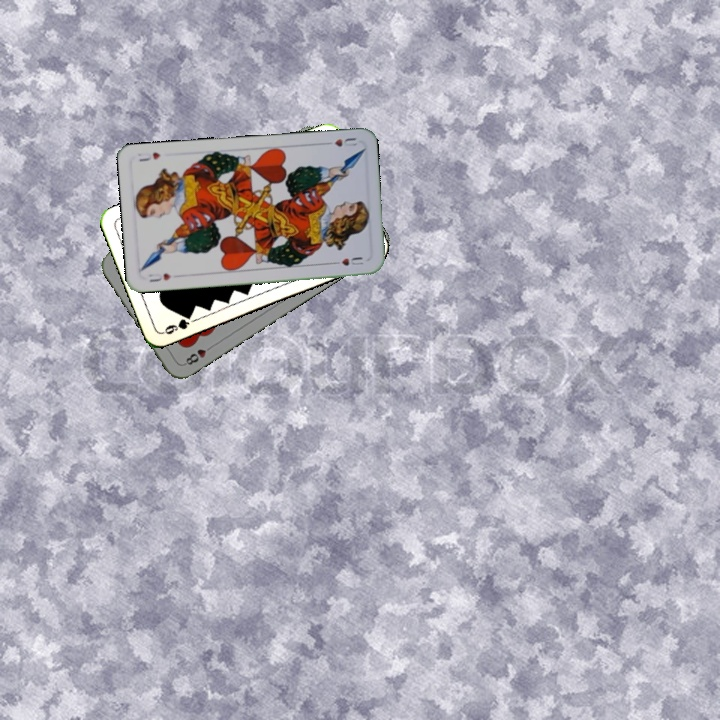G9: (158, 309, 195, 337)
H8: (180, 341, 216, 368)
HU: (320, 134, 360, 149), (145, 269, 174, 284)
